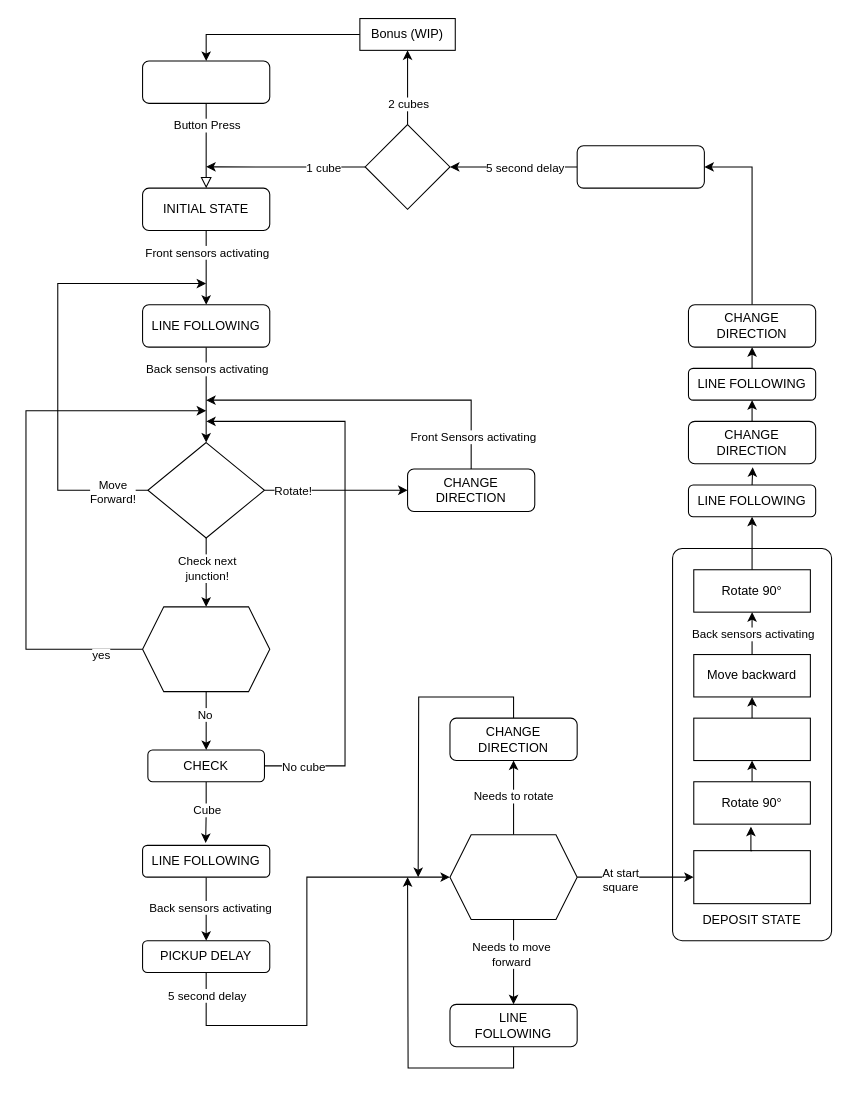
This 850x1095 diagram has some shape labels left out. Each missing label, with the centre of its shape:
Cubes collected: pixel 407 166
DEPOSIT 2: pixel 640 166
Has the junction already been checked?: pixel 206 649
Move forward a fixed amount: pixel 751 739
Move forward a small amount: pixel 751 877
Next command?: pixel 205 489
Path to the start square: pixel 513 877
STOPPED STATE: pixel 206 81
